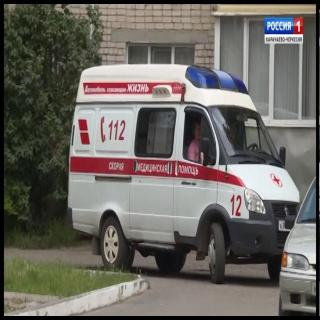Ambulance: (65, 41, 277, 286)
